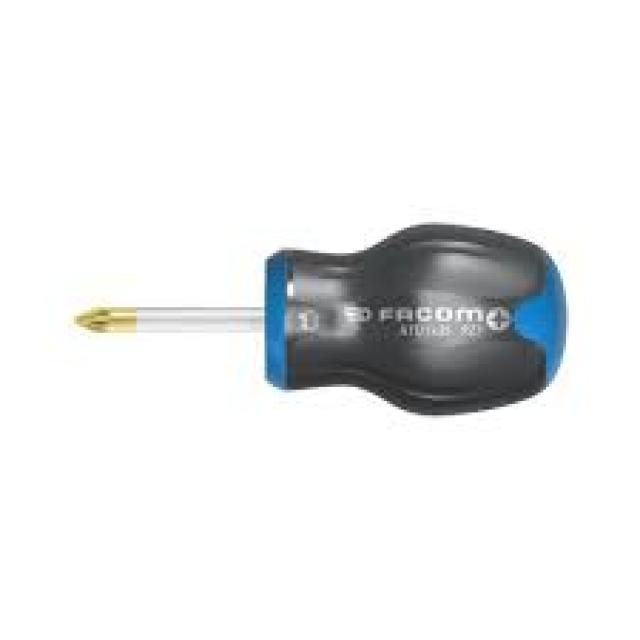screw driver: (64, 197, 634, 434)
